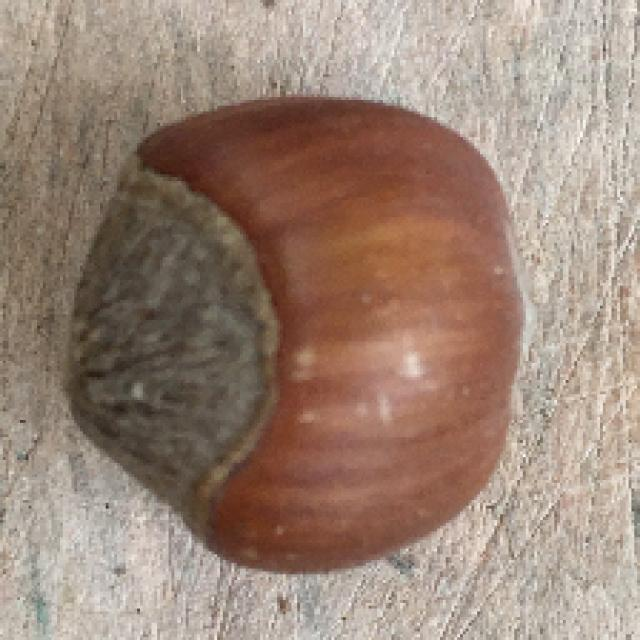damagedHazelnut: (67, 98, 534, 587)
